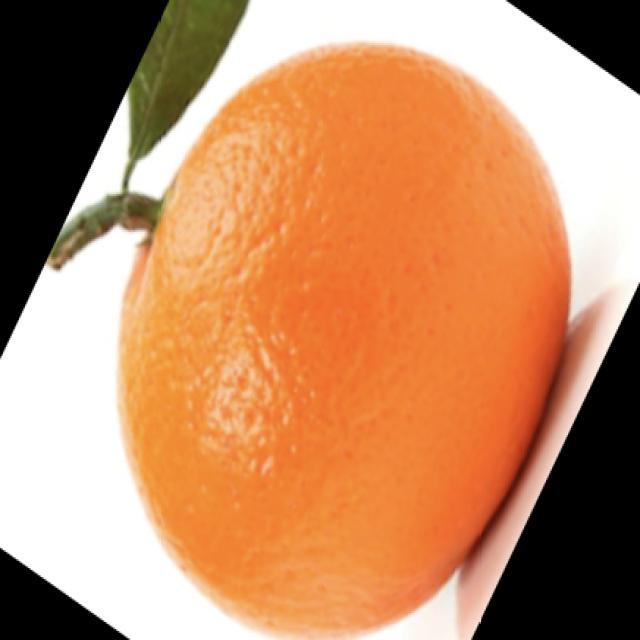matang: (120, 45, 569, 631)
